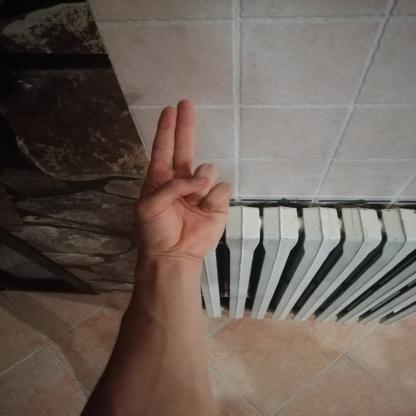TA: (119, 90, 241, 267)
